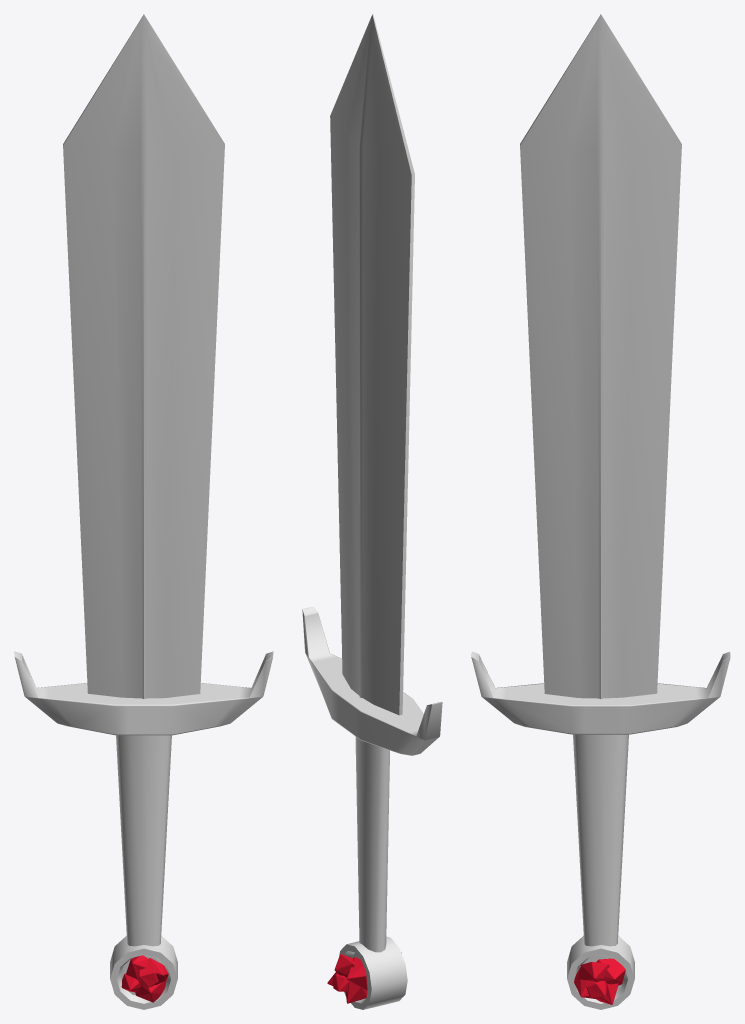
The model's file is Sword.fbx.
3 views of the same model, side by side, from view 1: azimuth 90°, elevation 25°; view 2: azimuth 210°, elevation 25°; view 3: azimuth 270°, elevation 25° (orthographic).
Parts seen in each view (by area): view 1: Blade, Handle, HandShield, Knob, Ruby; view 2: Blade, HandShield, Handle, Knob, Ruby; view 3: Blade, Handle, HandShield, Knob, Ruby.
Part boxes in pixels (left/top/right/bottom): Blade: left=63, top=14, right=224, bottom=698; Handle: left=116, top=735, right=171, bottom=946; HandShield: left=14, top=651, right=273, bottom=735; Knob: left=110, top=936, right=177, bottom=1009; Ruby: left=121, top=955, right=168, bottom=1002; Blade: left=330, top=14, right=414, bottom=715; HandShield: left=302, top=607, right=442, bottom=755; Handle: left=355, top=736, right=389, bottom=952; Knob: left=339, top=936, right=407, bottom=1009; Ruby: left=327, top=952, right=401, bottom=1003; Blade: left=520, top=14, right=681, bottom=698; Handle: left=573, top=734, right=628, bottom=946; HandShield: left=471, top=652, right=730, bottom=734; Knob: left=567, top=936, right=634, bottom=1009; Ruby: left=574, top=958, right=625, bottom=1004.
Size of the model in its own units: 77.8 by 1130 by 269.
